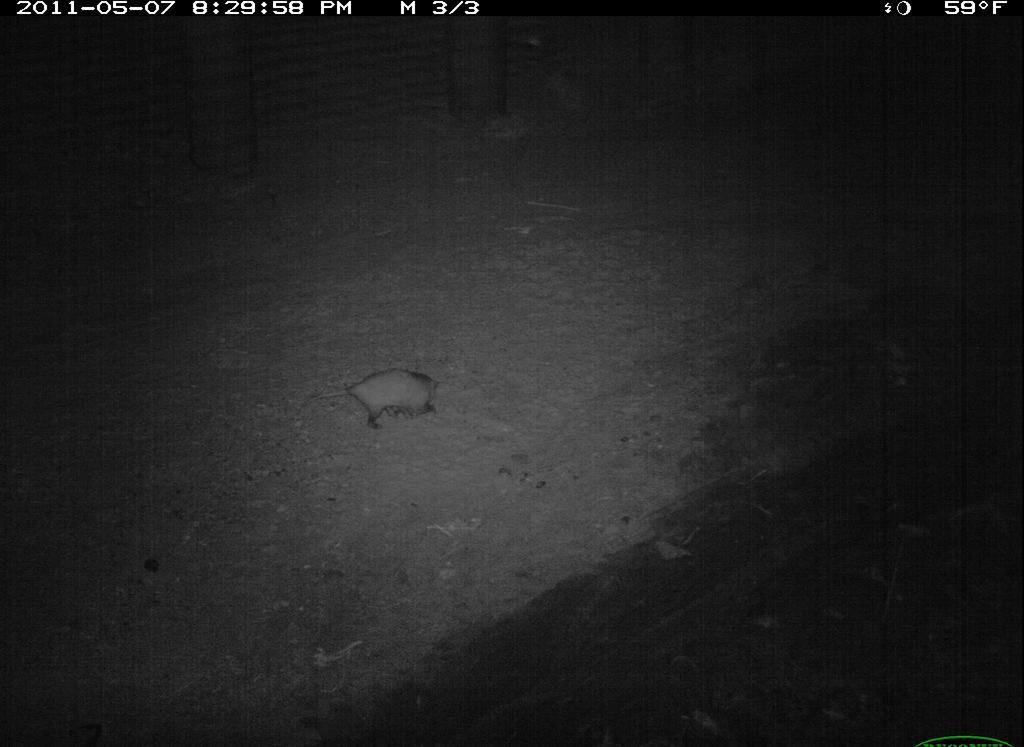opossum: (304, 361, 451, 441)
